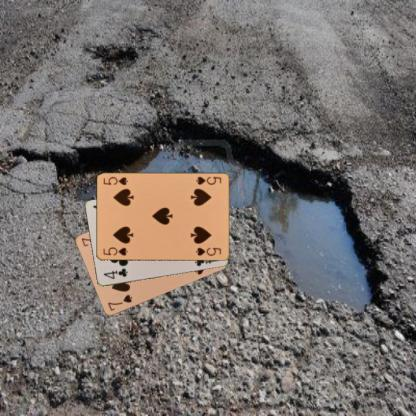4c: (100, 266, 129, 280)
5s: (193, 174, 222, 186), (101, 245, 128, 257)
7s: (105, 292, 134, 312)
